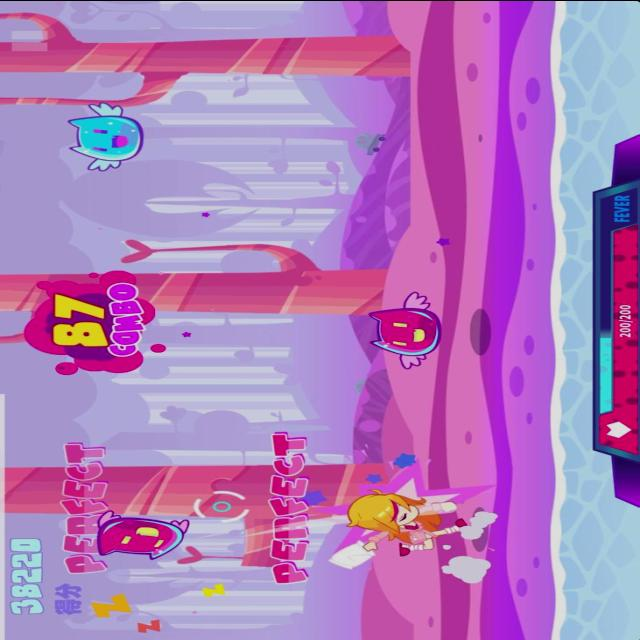mao: (356, 288, 448, 370), (64, 101, 148, 171), (88, 508, 196, 560)
